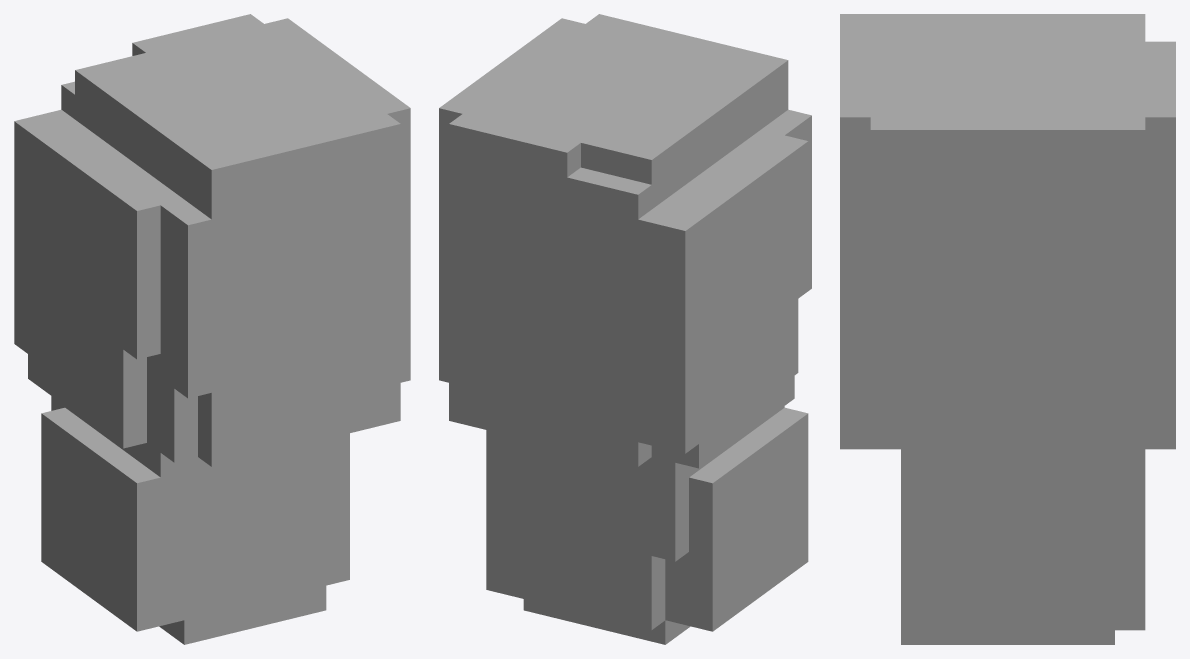
Rendered from gorilla-3-L_Arm.obj.
3 views of the same model, side by side, from view 1: azimuth 30°, elevation 25°; view 2: azimuth 150°, elevation 25°; view 3: azimuth 270°, elevation 25° (orthographic). The views are drawn at different scales.
Parts seen in each view (by area): view 1: L_Arm; view 2: L_Arm; view 3: L_Arm.
Part boxes in pixels (bbox=[...]): L_Arm: bbox=[14, 14, 410, 644]; L_Arm: bbox=[439, 14, 811, 644]; L_Arm: bbox=[840, 14, 1175, 644].
Size of the model in its own units: 1.1 by 2 by 1.1.
1 material, 1 textured.
